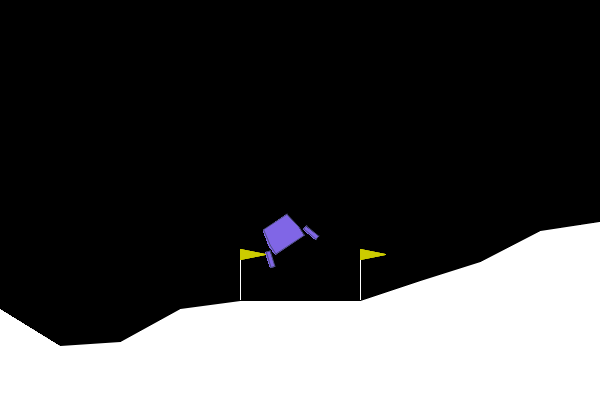lander: (248, 204, 321, 271)
